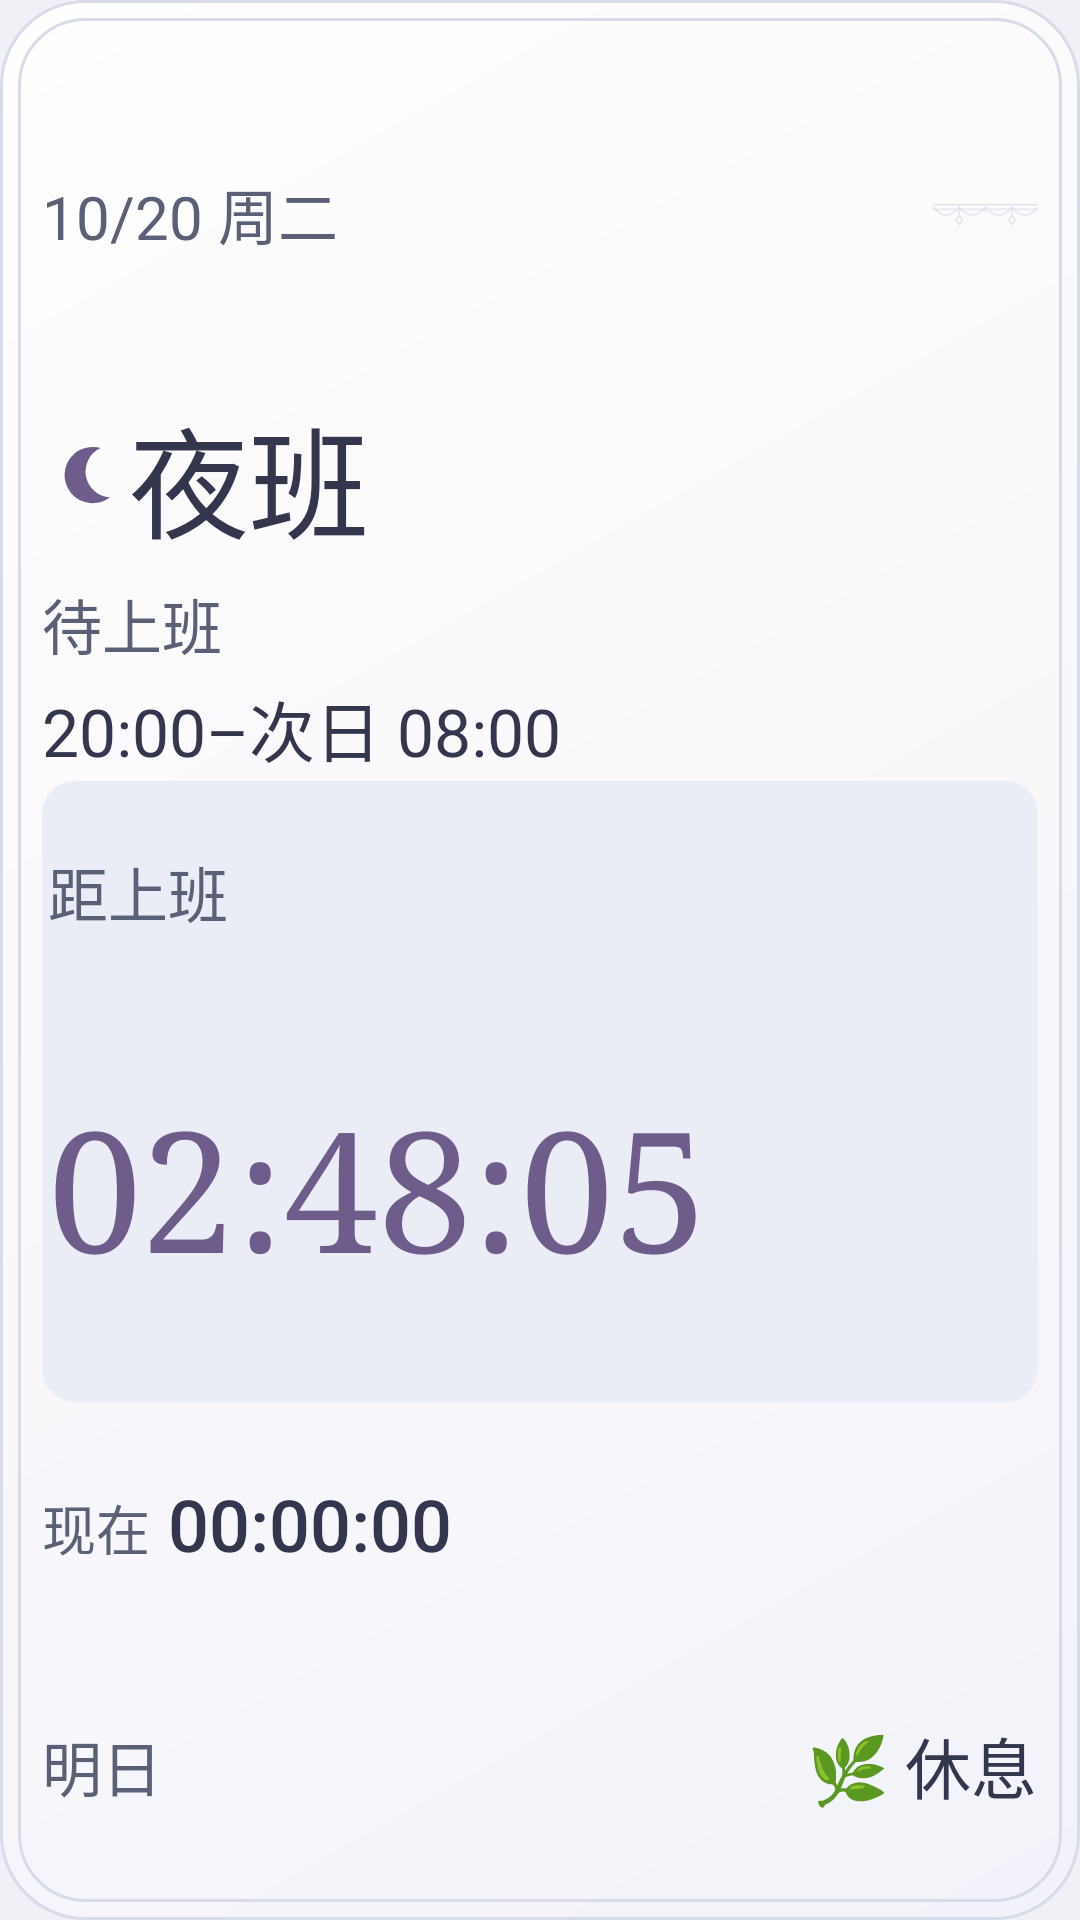

Where to tap for icons on this 1080 × 1920 app screen, as point (x, y):
widget handbook trim: point (985, 216)
widget symbol night: point (87, 475)
